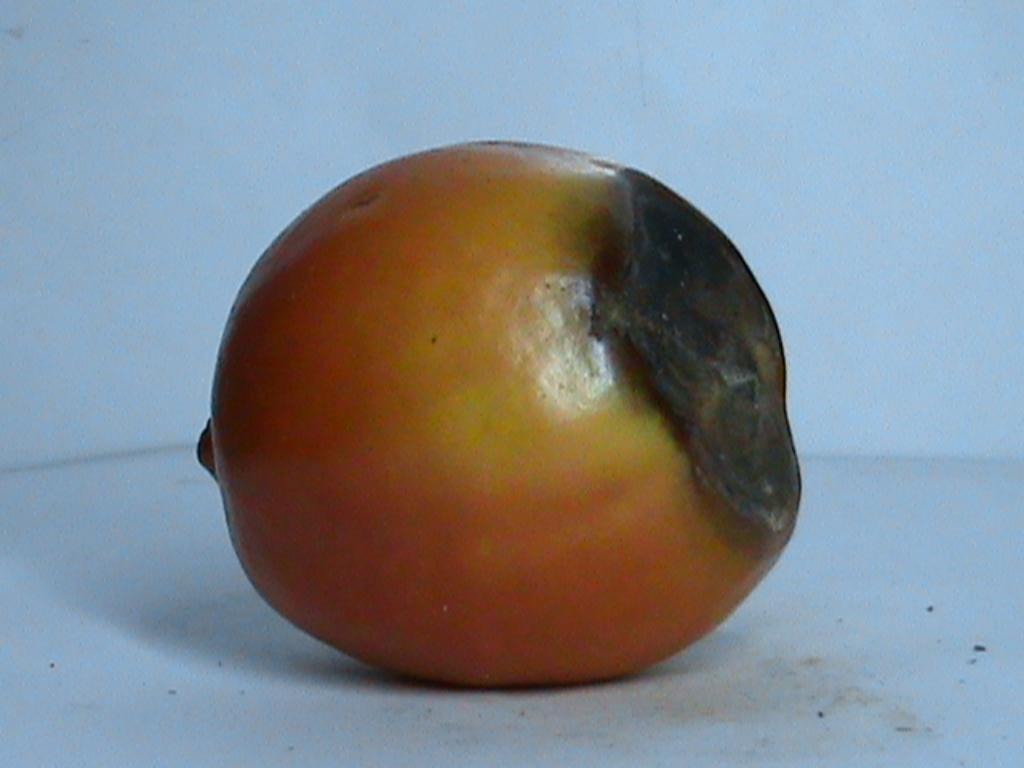bruise_discoloration: (411, 159, 777, 610)
rot_mold_decay: (590, 170, 798, 533)
tomato: (200, 142, 798, 685)
